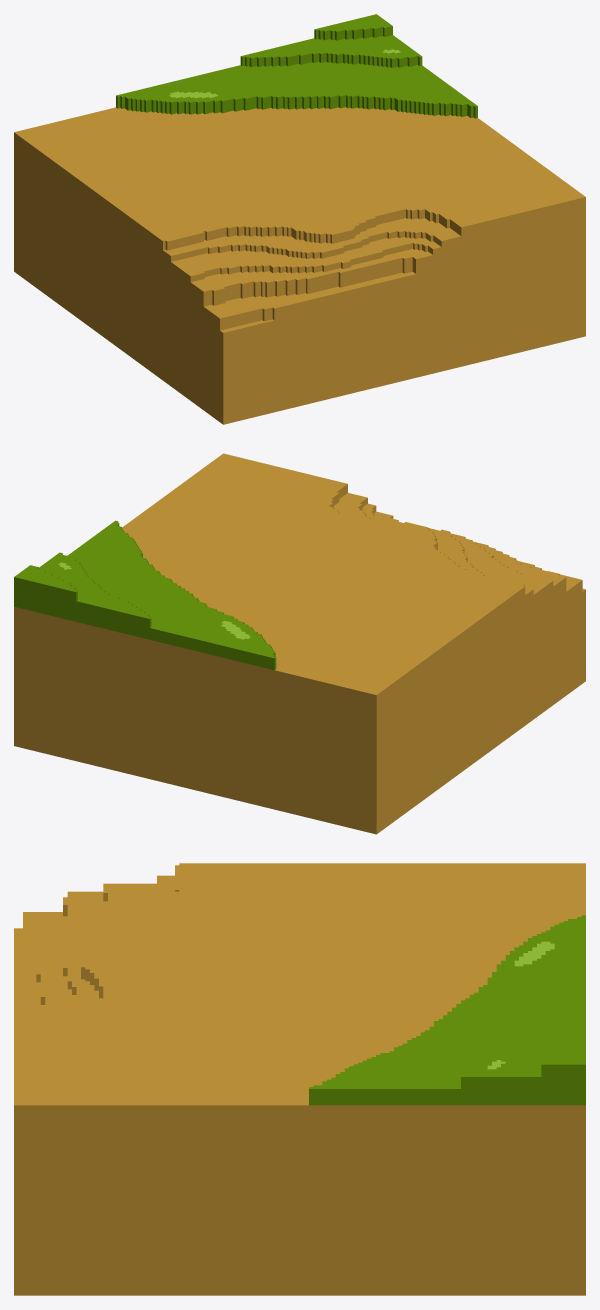
3 renders of one model, top to bottom at view 1: azimuth 30°, elevation 25°; view 2: azimuth 150°, elevation 25°; view 3: azimuth 270°, elevation 25°, orthographic. The views are drawn at different scales.
Visible parts, largest first — view 1: 14C; view 2: 14C; view 3: 14C.
Boxes of the visible parts, box(x1,y1,x2,y2) form: 14C: box(14, 14, 585, 424); 14C: box(14, 453, 585, 834); 14C: box(14, 863, 585, 1295).
Size of the model in its own units: 12.8 by 5.7 by 12.8.
Materials: 1 (1 with a texture image).
